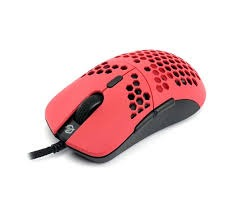mouse: (32, 31, 210, 175)
